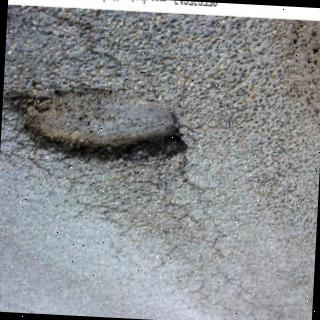pothole: (2, 90, 188, 161)
